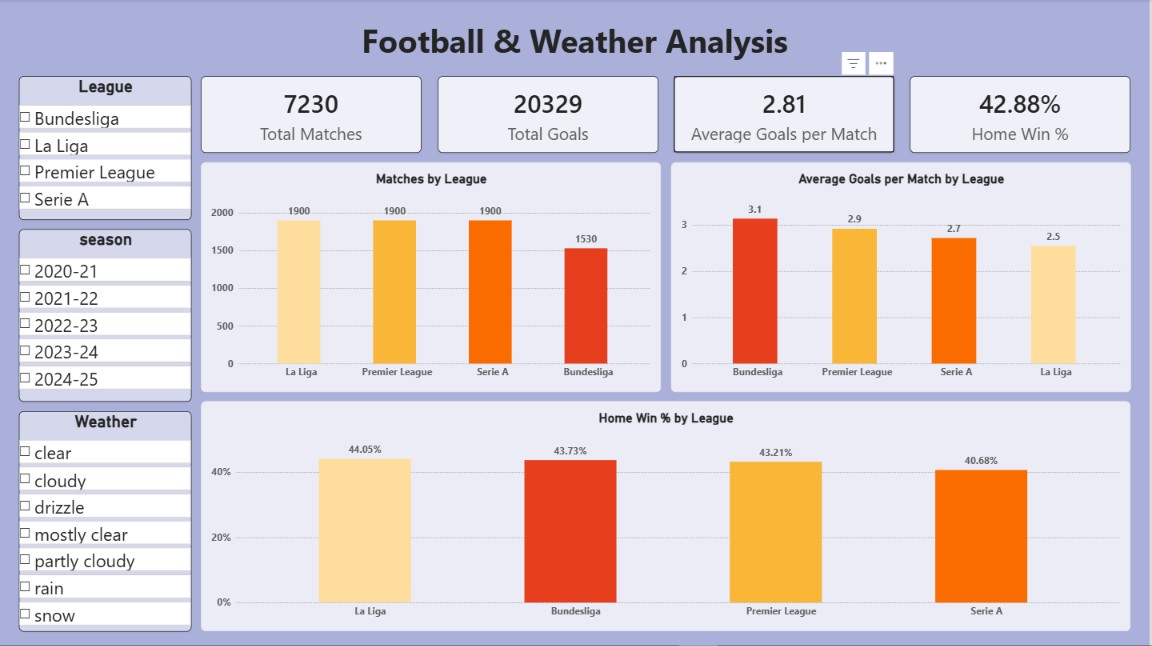

This screenshot's page, from the dashboard's own definition file:
{"tool":"powerbi","page":{"name":"Football & Weather Overview","canvas":[1920,1080],"ordinal":0},"visuals":[{"type":"card","fields":{"Values":["Table.Total Goals"]},"box":[730.7,128,368,128],"z":0},{"type":"card","fields":{"Values":["Table.Total Matches"]},"box":[336,128,368,128],"z":1000},{"type":"card","fields":{"Values":["Table.Home Win %"]},"box":[1520,128,368,128],"z":2000},{"type":"card","fields":{"Values":["Table.Average Goals per Match"]},"box":[1125.3,128,368,128],"z":3000},{"type":"clusteredColumnChart","title":"Matches by League","fields":{"Category":["football_weather.League Name"],"Y":["Table.Total Matches"]},"box":[336,272,768,384],"z":4000},{"type":"clusteredColumnChart","title":"Average Goals per Match by League","fields":{"Category":["football_weather.League Name"],"Y":["Table.Average Goals per Match"]},"box":[1120,272,768,384],"z":5000},{"type":"clusteredColumnChart","title":"Home Win % by League","fields":{"Category":["football_weather.League Name"],"Y":["Table.Home Win %"]},"box":[336,672,1552,384],"z":6000},{"type":"listSlicer","title":"season","fields":{"Values":["football_weather.season"]},"box":[32,384,288,288],"z":7000},{"type":"listSlicer","title":"Weather","fields":{"Values":["football_weather.weather_label"]},"box":[32,688,288,368],"z":8000},{"type":"listSlicer","title":"League","fields":{"Values":["football_weather.League Name"]},"box":[32,128,288,240],"z":9000},{"type":"textbox","box":[32,32,1856,80],"z":10000}]}

Visuals, with their boxes in screenshot pixels (x1, y1, x2, y2), scaled from the page's 1920x1080 canvas onto the 1152x646 screenshot:
card - Table.Total Goals: crop(438, 77, 659, 153)
card - Table.Total Matches: crop(202, 77, 422, 153)
card - Table.Home Win %: crop(912, 77, 1133, 153)
card - Table.Average Goals per Match: crop(675, 77, 896, 153)
"Matches by League" clusteredColumnChart: crop(202, 163, 662, 392)
"Average Goals per Match by League" clusteredColumnChart: crop(672, 163, 1133, 392)
"Home Win % by League" clusteredColumnChart: crop(202, 402, 1133, 632)
"season" listSlicer: crop(19, 230, 192, 402)
"Weather" listSlicer: crop(19, 412, 192, 632)
"League" listSlicer: crop(19, 77, 192, 220)
textbox: crop(19, 19, 1133, 67)
